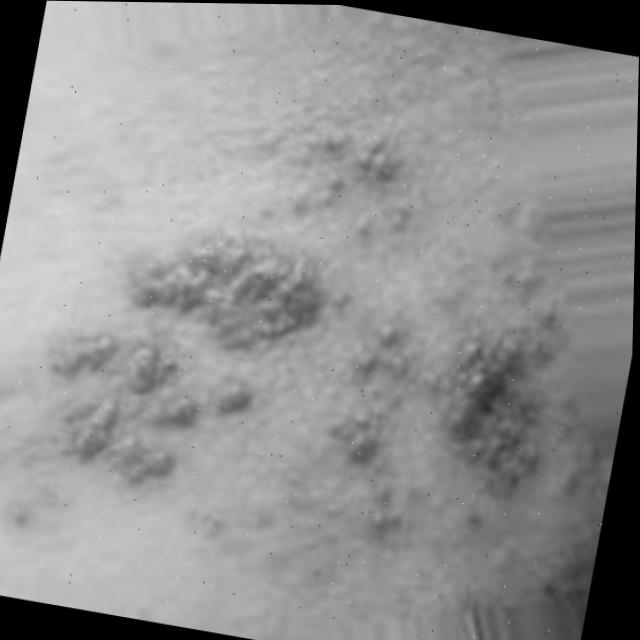Shingles: (0, 66, 639, 608)
